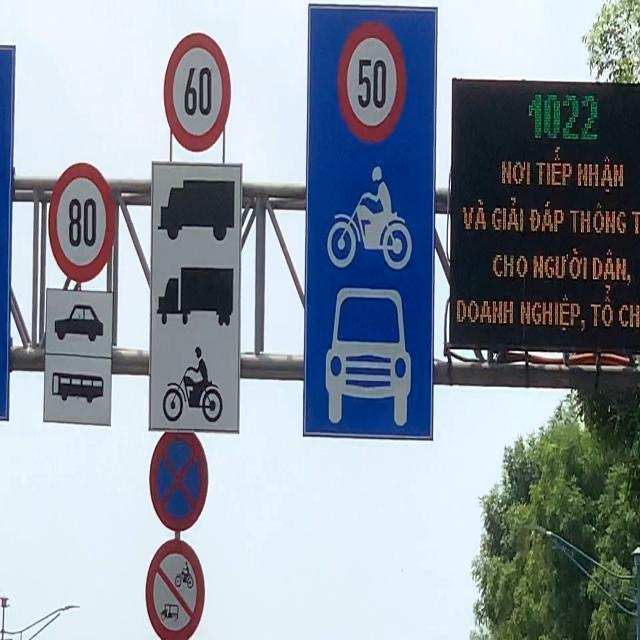127-toc-do-toi-da-50: (338, 23, 406, 141)
127-toc-do-toi-da-60: (162, 31, 234, 152)
127-toc-do-toi-da-80: (44, 160, 120, 280)
130-cam-dung-va-do-xe: (147, 426, 210, 528)
